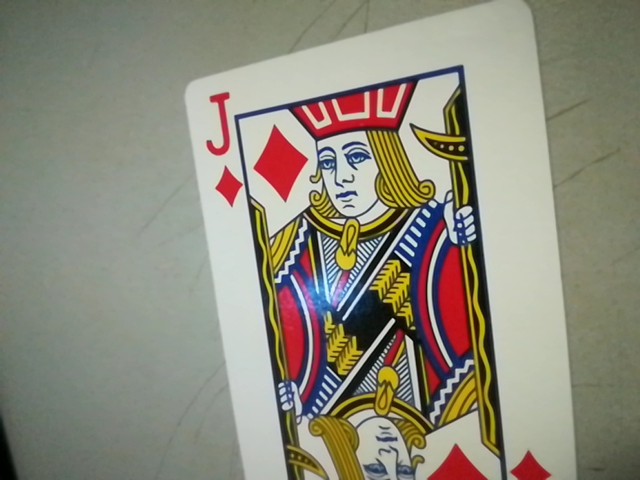fk j: (195, 84, 248, 209)
